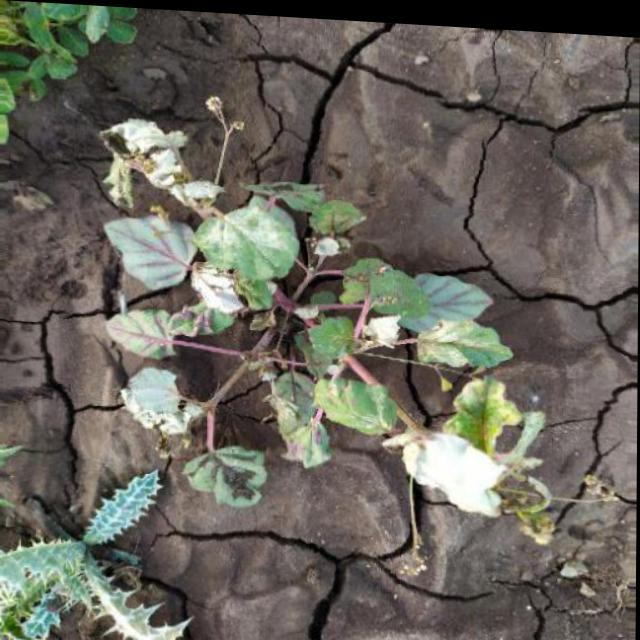weed: (102, 110, 563, 530), (0, 461, 222, 640)
